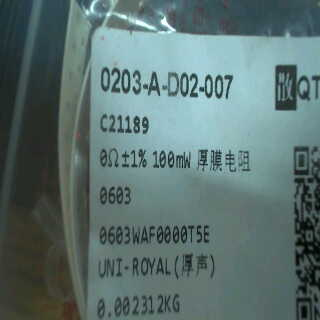0R: (95, 139, 195, 211)
